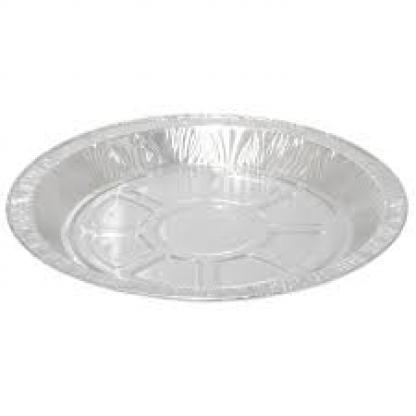METAL: (4, 113, 406, 298)
